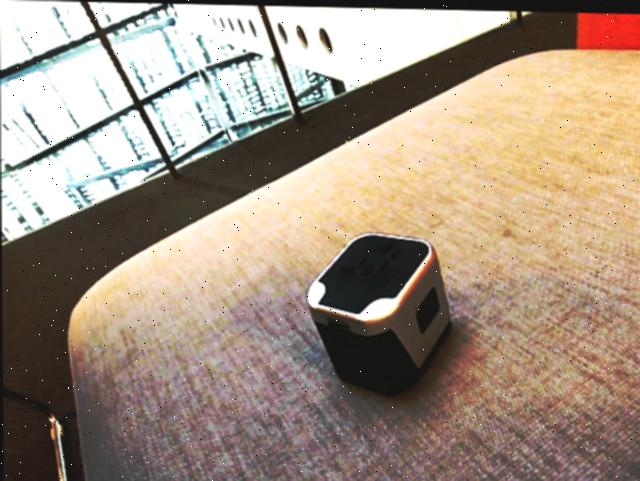adapter: (305, 229, 451, 394)
